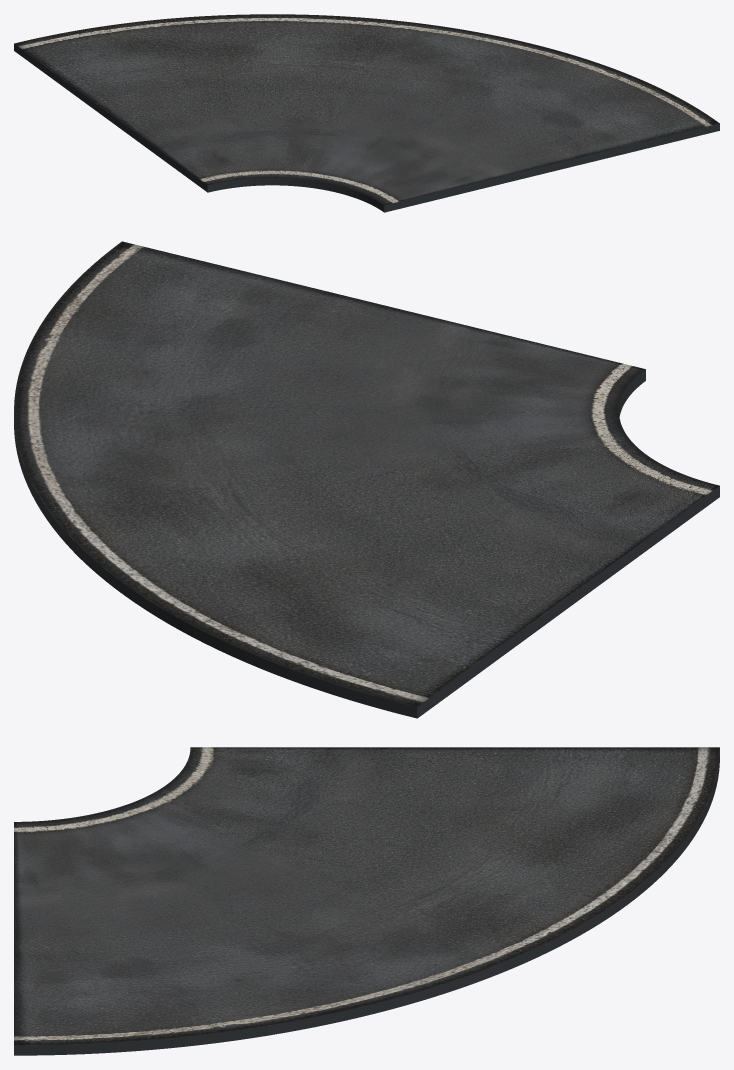
File: track-corner-left.glb
3 views of the same model, one above another, from view 1: azimuth 30°, elevation 25°; view 2: azimuth 150°, elevation 25°; view 3: azimuth 270°, elevation 25° (orthographic). The views are drawn at different scales.
Parts seen in each view (by area): view 1: track-corner-left; view 2: track-corner-left; view 3: track-corner-left.
Boxes of the visible parts, left/top/right/bottom form: track-corner-left: left=14, top=14, right=719, bottom=212; track-corner-left: left=14, top=241, right=719, bottom=718; track-corner-left: left=14, top=747, right=719, bottom=1055.
Size of the model in its own units: 16 by 0.25 by 16.
Materials: 2 (1 with a texture image).
